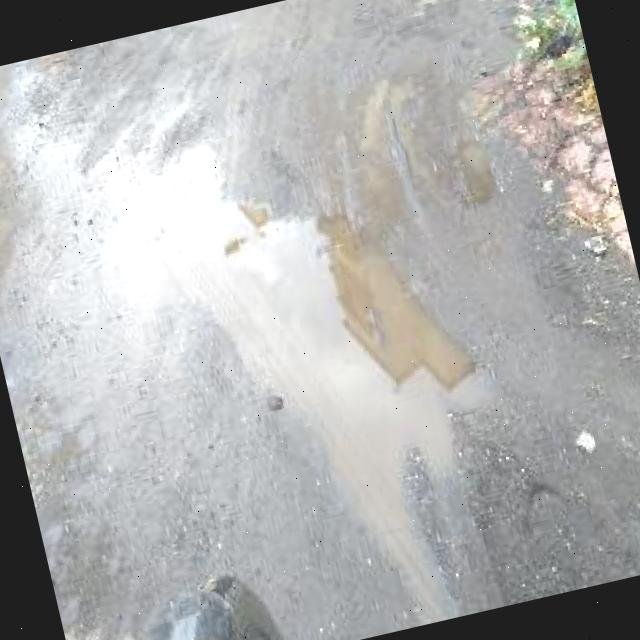stagnation: (121, 188, 491, 580)
